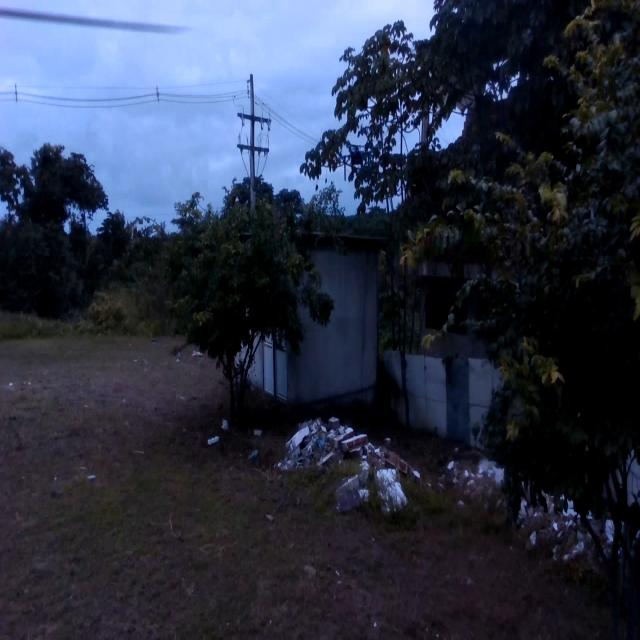-uav-: (338, 142, 378, 186)
